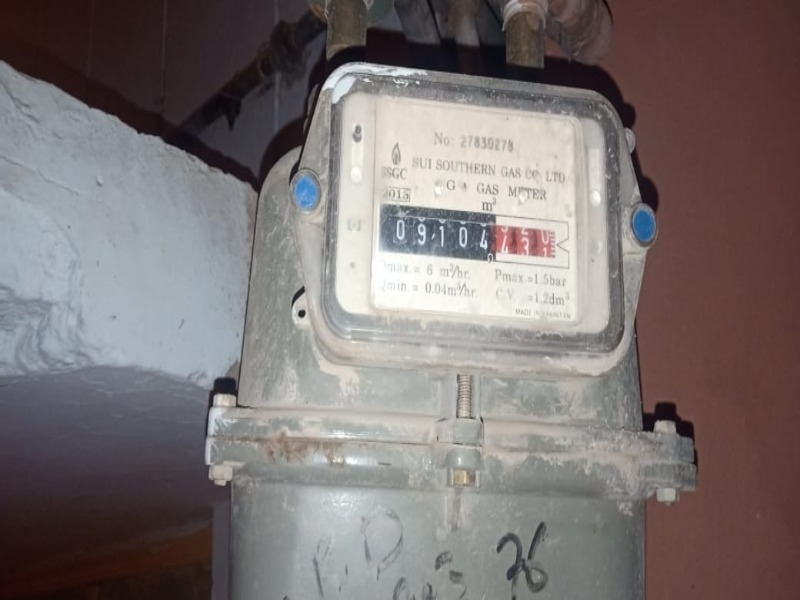ssgc: (382, 208, 568, 265)
